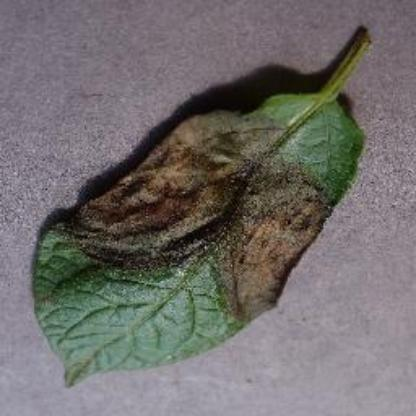Late-Blight: (29, 25, 383, 391)
